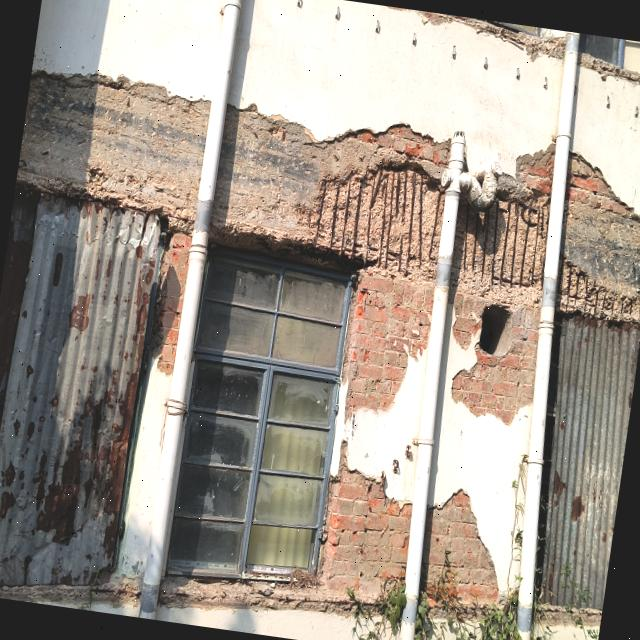peeling: (16, 71, 211, 232), (211, 105, 399, 246)
spalling: (249, 131, 444, 279), (318, 447, 412, 601), (347, 276, 433, 412), (451, 293, 539, 424), (455, 175, 548, 291), (158, 572, 352, 617), (424, 491, 498, 604), (417, 11, 565, 60), (563, 264, 640, 321), (0, 577, 141, 607), (352, 127, 439, 163), (567, 156, 611, 203), (516, 143, 555, 195), (578, 53, 640, 85), (594, 201, 623, 213)
